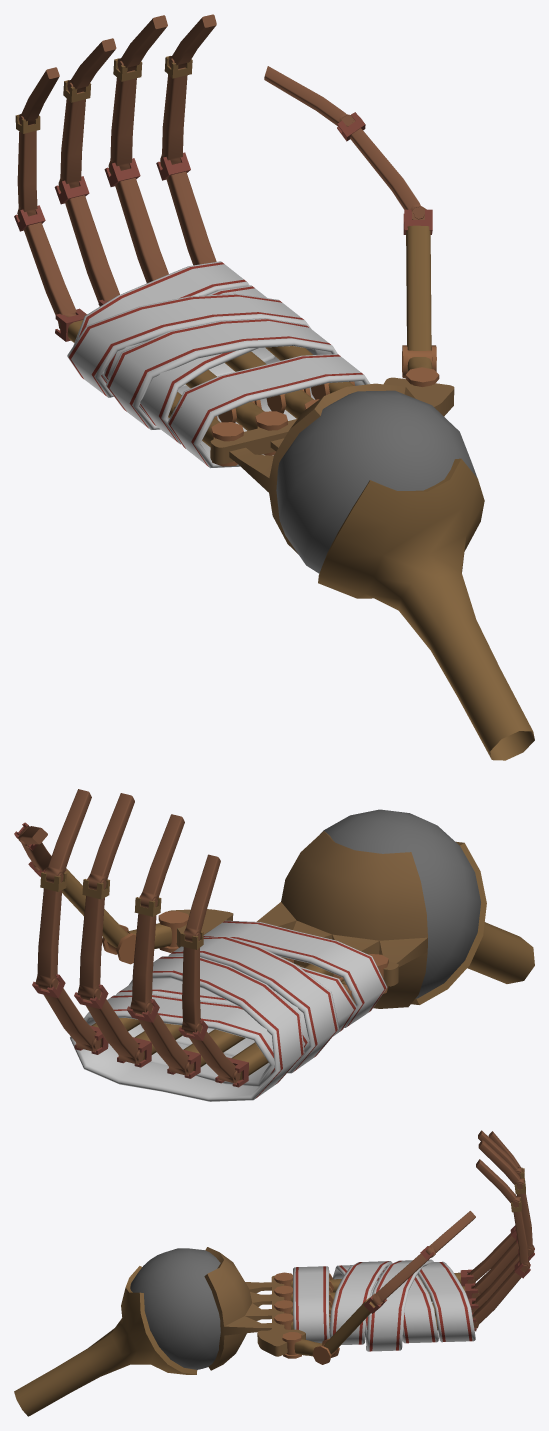
The model's file is Manos-Robotica-V1.fbx.
3 views of the same model, one above another, from view 1: azimuth 30°, elevation 25°; view 2: azimuth 150°, elevation 25°; view 3: azimuth 270°, elevation 25° (orthographic). The views are drawn at different scales.
Visible parts, largest first — view 1: Cylinder; view 2: Cylinder; view 3: Cylinder.
Part boxes in pixels (x1,y1,x2,y2): Cylinder: [14, 14, 534, 760]; Cylinder: [14, 789, 534, 1101]; Cylinder: [14, 1130, 534, 1416].
Bounding box in the file's own units: 108 × 153 × 256.
